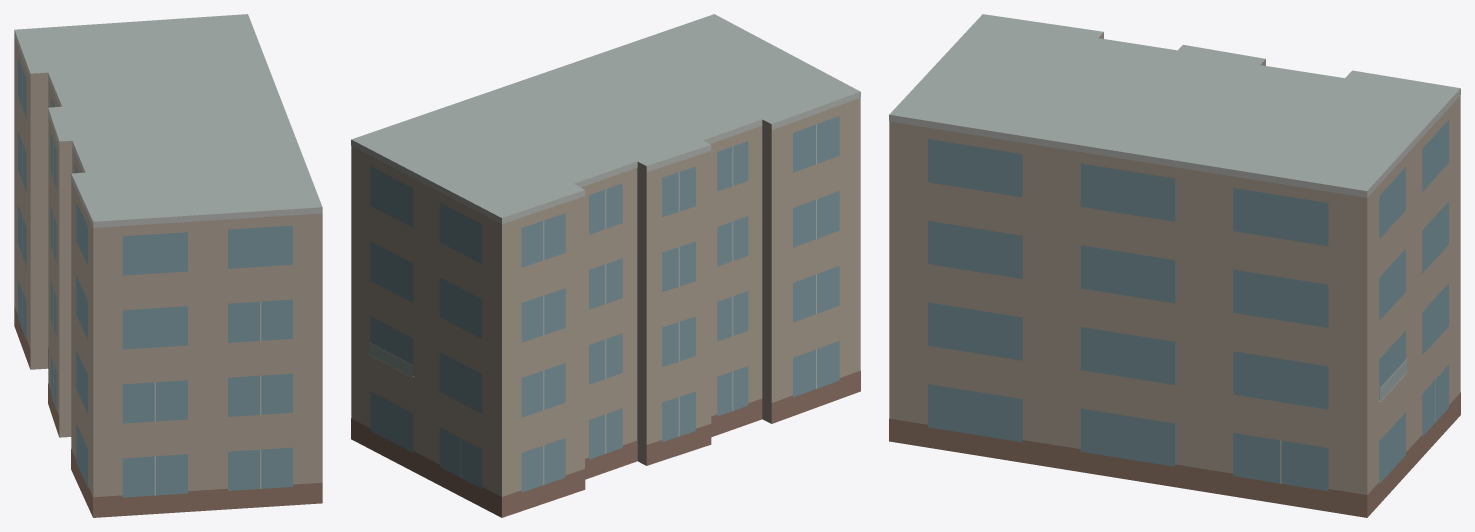
The model's file is survey-upis-32810410.glb.
3 renders of one model, left to right at view 1: azimuth 30°, elevation 25°; view 2: azimuth 150°, elevation 25°; view 3: azimuth 270°, elevation 25°, orthographic. The views are drawn at different scales.
Visible parts, largest first — view 1: survey-upis-32810410.tmp; view 2: survey-upis-32810410.tmp; view 3: survey-upis-32810410.tmp.
Boxes of the visible parts, x1=… form: survey-upis-32810410.tmp: x1=14, y1=14, x2=322, y2=517; survey-upis-32810410.tmp: x1=351, y1=14, x2=860, y2=517; survey-upis-32810410.tmp: x1=889, y1=14, x2=1460, y2=517.
Bounding box in the file's own units: 13.79 × 11.85 × 18.8.
